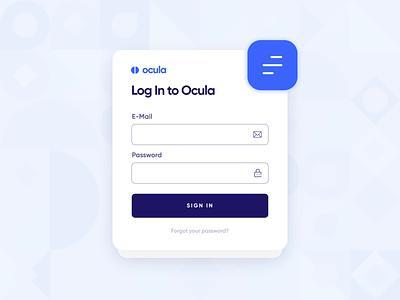button: (133, 194, 270, 219)
icon: (254, 168, 265, 179), (252, 130, 264, 140)
input: (131, 162, 270, 186), (132, 125, 270, 148)
label: (131, 85, 217, 99), (171, 228, 231, 236), (132, 153, 165, 160), (142, 67, 167, 75), (132, 113, 154, 122)
